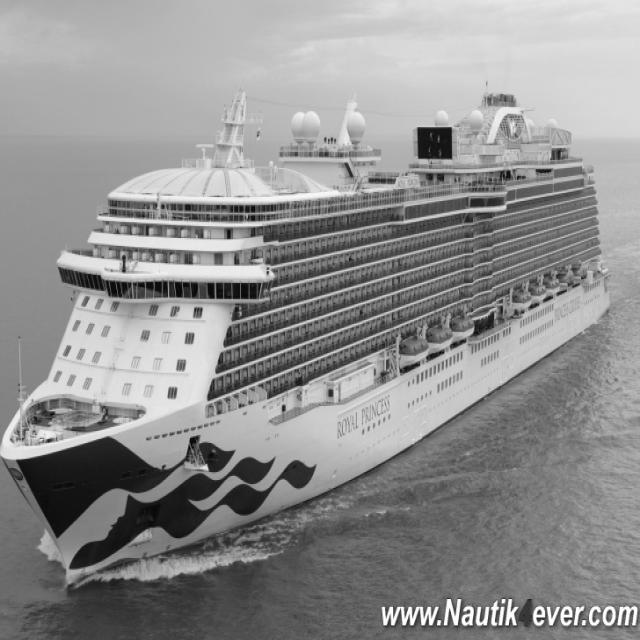cruises: (1, 52, 615, 579)
